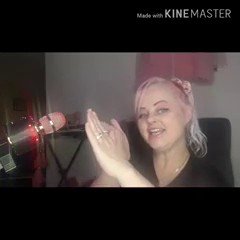H: (78, 105, 137, 177)
